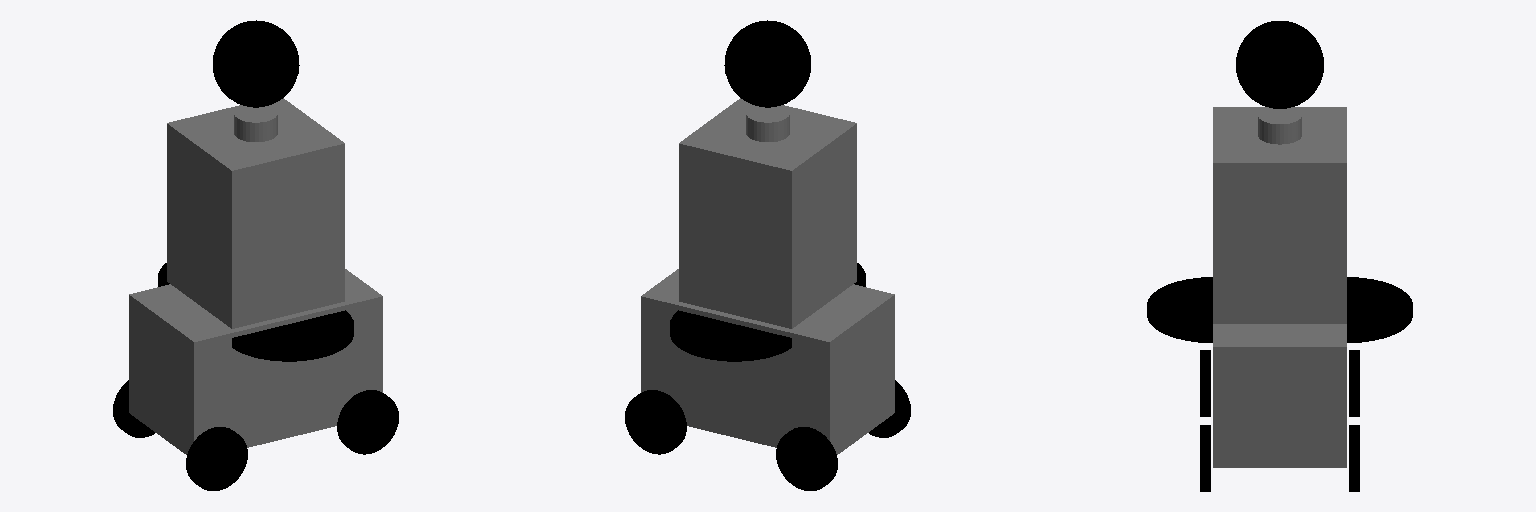
robot.urdf — demo:
<?xml version="1.0"?>
<robot name="demo" xmlns:xacro="http://ros.org/wiki/xacro">

  <!-- Materials -->
  <material name="blue">
    <color rgba="0 0 1 1" />
  </material>
  <material name="grey">
    <color rgba="0.5 0.5 0.5 1" />
  </material>
  <material name="black">
    <color rgba="0 0 0 1" />
  </material>
  <material name="green">
    <color rgba="0 1 0 1" />
  </material>
  <material name="red">
    <color rgba="1 0 0 1" />
  </material>

  <!-- Base links -->
  <link name="base_link">
    <visual>
      <geometry>
        <box size="1 0.6 0.2" />
      </geometry>
      <origin xyz="0 0 0.1" rpy="0 0 0" />
      <material name="grey" />
    </visual>
  </link>

  <!-- Wheels -->
  <link name="left_wheel_1">
    <visual>
      <geometry>
        <cylinder radius="0.15" length="0.05" />
      </geometry>
      <origin xyz="0 0 0" rpy="1.5707 0 0" />
      <material name="black" />
    </visual>
  </link>
  <link name="right_wheel_1">
    <visual>
      <geometry>
        <cylinder radius="0.15" length="0.05" />
      </geometry>
      <origin xyz="0 0 0" rpy="1.5707 0 0" />
      <material name="black" />
    </visual>
  </link>
  <link name="left_wheel_2">
    <visual>
      <geometry>
        <cylinder radius="0.15" length="0.05" />
      </geometry>
      <origin xyz="0 0 0" rpy="1.5707 0 0" />
      <material name="black" />
    </visual>
  </link>
  <link name="right_wheel_2">
    <visual>
      <geometry>
        <cylinder radius="0.15" length="0.05" />
      </geometry>
      <origin xyz="0 0 0" rpy="1.5707 0 0" />
      <material name="black" />
    </visual>
  </link>

   <!-- Box above the wheels -->
  <link name="main_box">
    <visual>
      <geometry>
        <box size="1 0.6 0.4" />
      </geometry>
      <origin xyz="0 0 0.2" rpy="0 0 0" />
      <material name="grey" />
    </visual>
  </link>

  <!-- Two cylindrical discs -->
  <link name="cylinder_1">
    <visual>
      <geometry>
        <cylinder radius="0.3" length="0.05" />
      </geometry>
      <origin xyz="0 0 0" rpy="0 0 0" />
      <material name="black" />
    </visual>
  </link>
  <link name="cylinder_2">
    <visual>
      <geometry>
        <cylinder radius="0.3" length="0.05" />
      </geometry>
      <origin xyz="0 0 0" rpy="0 0 0" />
      <material name="black" />
    </visual>
  </link>

   <!-- Rectangular box on bottam of the cylinders -->
  <link name="rectangular_box">
    <visual>
      <geometry>
        <box size="0.6 0.6 0.8" />
      </geometry>
      <origin xyz="0 0 0.05" rpy="0 0 0" />
      <material name="grey" />
    </visual>
  </link>

  <!-- Cylindrical neck on top of rectangular box -->
  <link name="neck">
    <visual>
      <geometry>
        <cylinder radius="0.1" length="0.2" />
      </geometry>
      <origin xyz="0 0 0.05" rpy="0 0 0" />
      <material name="grey" />
    </visual>
  </link>

  <!-- Face (sphere) on top of the neck -->
  <link name="face">
    <visual>
      <geometry>
        <sphere radius="0.2" />
      </geometry>
      <origin xyz="0 0 0" rpy="0 0 0" />
      <material name="black" />
    </visual>
  </link>

  <!-- Connections between base and wheels -->
  <joint name="joint_base_left_1" type="continuous">
    <parent link="base_link" />
    <child link="left_wheel_1" />
    <origin xyz="-0.4 0.335 0" rpy="0 0 0" />
    <!-- <limit upper="3.1415" lower="-3.1415" effort="30" velocity="5.0"/> -->
    <axis xyz="0 1 0"/>
  </joint>

  <joint name="joint_base_right_1" type="continuous">
    <parent link="base_link" />
    <child link="right_wheel_1" />
    <origin xyz="0.4 0.335 0" rpy="0 0 0" />
    <!-- <limit upper="3.1415" lower="-3.1415" effort="30" velocity="5.0"/> -->
    <axis xyz="0 1 0"/>
  </joint>

  <joint name="joint_base_left_2" type="continuous">
    <parent link="base_link" />
    <child link="left_wheel_2" />
    <origin xyz="-0.4 -0.335 0" rpy="0 0 0" />
   <!-- <limit upper="3.1415" lower="-3.1415" effort="30" velocity="5.0"/> -->
    <axis xyz="0 1 0"/>
  </joint>

  <joint name="joint_base_right_2" type="continuous">
    <parent link="base_link" />
    <child link="right_wheel_2" />
    <origin xyz="0.4 -0.335 0" rpy="0 0 0" />
   <!-- <limit upper="3.1415" lower="-3.1415" effort="30" velocity="5.0"/> -->
    <axis xyz="0 1 0"/>
  </joint>

  <!--connection with base box-->
  <joint name="joint_box_base" type="fixed">
    <parent link="base_link" />
    <child link="main_box" />
    <origin xyz="0 0 0.2" rpy="0 0 0" />
  </joint>

  <!--connection box with cylinders-->
  <joint name="joint_box_cylinder_1" type="fixed">
    <parent link="main_box" />
    <child link="cylinder_1" />
    <origin xyz="0 0.3 0.35" rpy="0 0 0" />
  </joint>
  <joint name="joint_box_cylinder_2" type="fixed">
    <parent link="main_box" />
    <child link="cylinder_2" />
    <origin xyz="0 -0.3 0.35" rpy="0 0 0" />
  </joint>

  <joint name="joint_cylinder_box" type="fixed">
    <parent link="cylinder_1" />
    <child link="rectangular_box" />
    <origin xyz="0 -0.3 0.42" rpy="0 0 0" />
  </joint>

  <joint name="joint_rectangular_neck" type="fixed">
    <parent link="rectangular_box" />
    <child link="neck" />
    <origin xyz="0 0 0.4" rpy="0 0 0" />
  </joint>

  <joint name="joint_neck_face" type="fixed">
    <parent link="neck" />
    <child link="face" />
    <origin xyz="0 0 0.4" rpy="0 0 0" />
  </joint>

</robot>

--- Render facts (derived) ---
3 views of the same robot in one strip: view 1: azimuth 30°, elevation 25°; view 2: azimuth 150°, elevation 25°; view 3: azimuth 270°, elevation 25° (orthographic).
Model demo with 11 links and 10 joints (4 continuous, 6 fixed), rooted at base_link, posed all joints at 0.
Visible links, largest first — view 1: rectangular_box, main_box, base_link, face, cylinder_2, right_wheel_2, left_wheel_2, neck, left_wheel_1; view 2: rectangular_box, main_box, base_link, face, cylinder_1, right_wheel_1, left_wheel_1, neck, left_wheel_2; view 3: rectangular_box, main_box, face, base_link, cylinder_1, cylinder_2, neck, left_wheel_1, right_wheel_1, left_wheel_2, right_wheel_2.
Boxes of the visible links, box(x1,y1,x2,y2) form: rectangular_box: box(167, 98, 344, 328); main_box: box(129, 269, 382, 420); base_link: box(129, 374, 382, 454); face: box(213, 20, 299, 107); cylinder_2: box(232, 310, 353, 361); right_wheel_2: box(337, 390, 398, 454); left_wheel_2: box(186, 427, 247, 490); neck: box(234, 106, 277, 141); left_wheel_1: box(113, 380, 154, 437); rectangular_box: box(679, 98, 856, 328); main_box: box(641, 269, 894, 420); base_link: box(641, 374, 894, 454); face: box(724, 20, 810, 107); cylinder_1: box(670, 310, 791, 361); right_wheel_1: box(625, 390, 686, 454); left_wheel_1: box(776, 427, 837, 490); neck: box(746, 106, 789, 141); left_wheel_2: box(869, 380, 910, 437); rectangular_box: box(1213, 107, 1346, 323); main_box: box(1213, 324, 1346, 426); face: box(1236, 21, 1323, 108); base_link: box(1213, 427, 1346, 467); cylinder_1: box(1347, 277, 1412, 342); cylinder_2: box(1147, 277, 1212, 342); neck: box(1258, 107, 1301, 144); left_wheel_1: box(1349, 350, 1359, 416); right_wheel_1: box(1349, 425, 1359, 491); left_wheel_2: box(1200, 350, 1210, 416); right_wheel_2: box(1200, 425, 1210, 491).
Bounding box of the posed robot: 1.1 × 1.2 × 2.12 m (x, y, z).
Geometry: primitives only (box / cylinder / sphere), no mesh files.